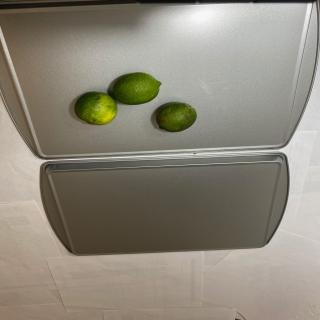Apple: (156, 101, 197, 132)
Lemon: (112, 72, 161, 105), (74, 91, 118, 126)
